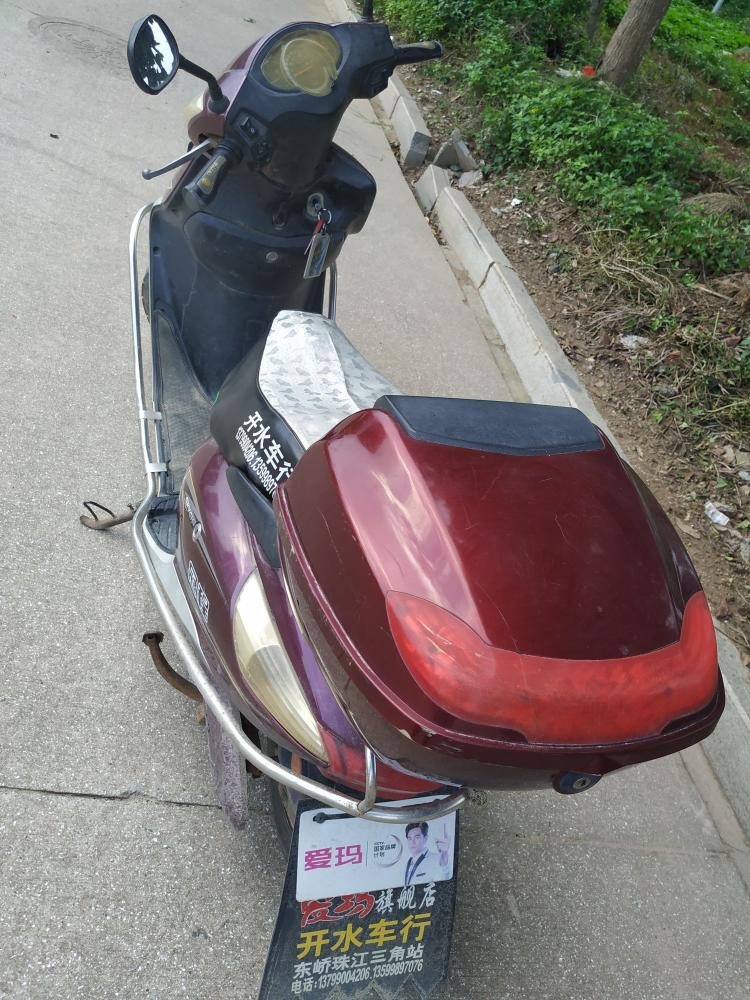电动车: (75, 18, 731, 987)
